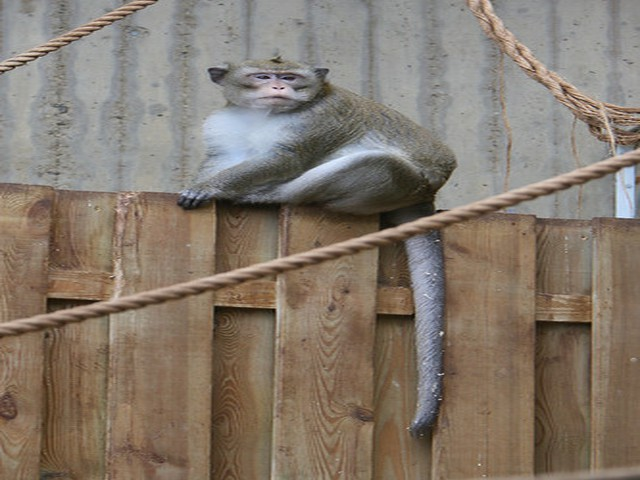Monkey: (182, 55, 478, 271)
